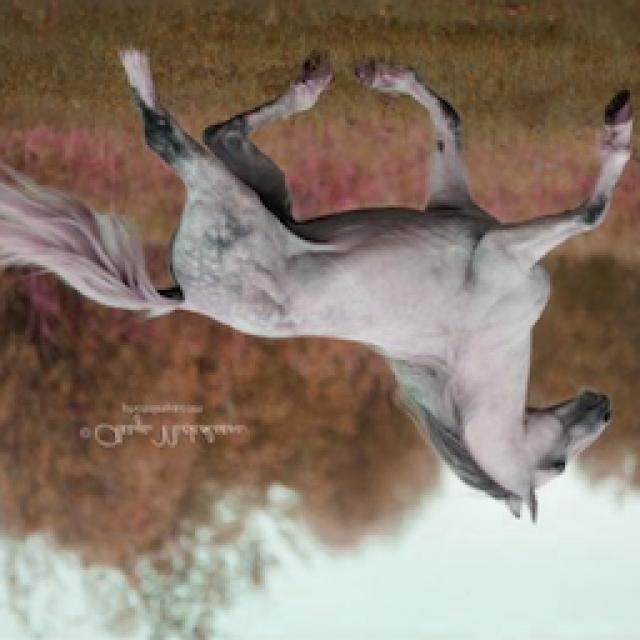Horse: (0, 42, 638, 530)
